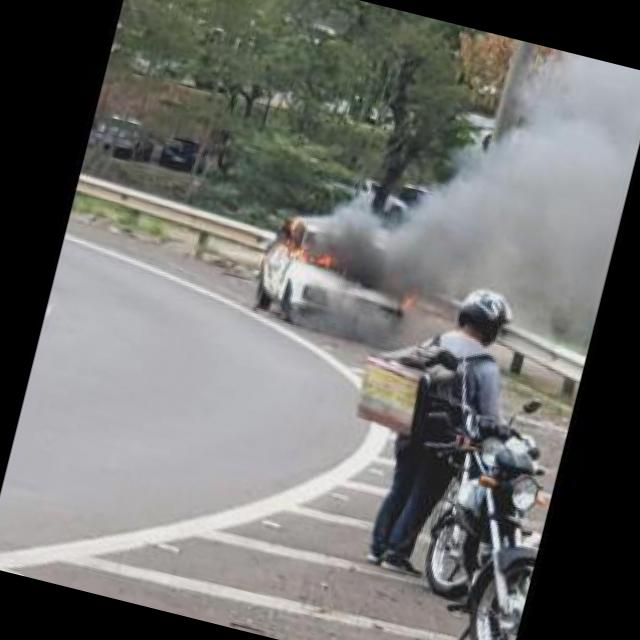fire: (296, 241, 340, 267), (403, 289, 423, 310)
smoke: (301, 2, 640, 332)
